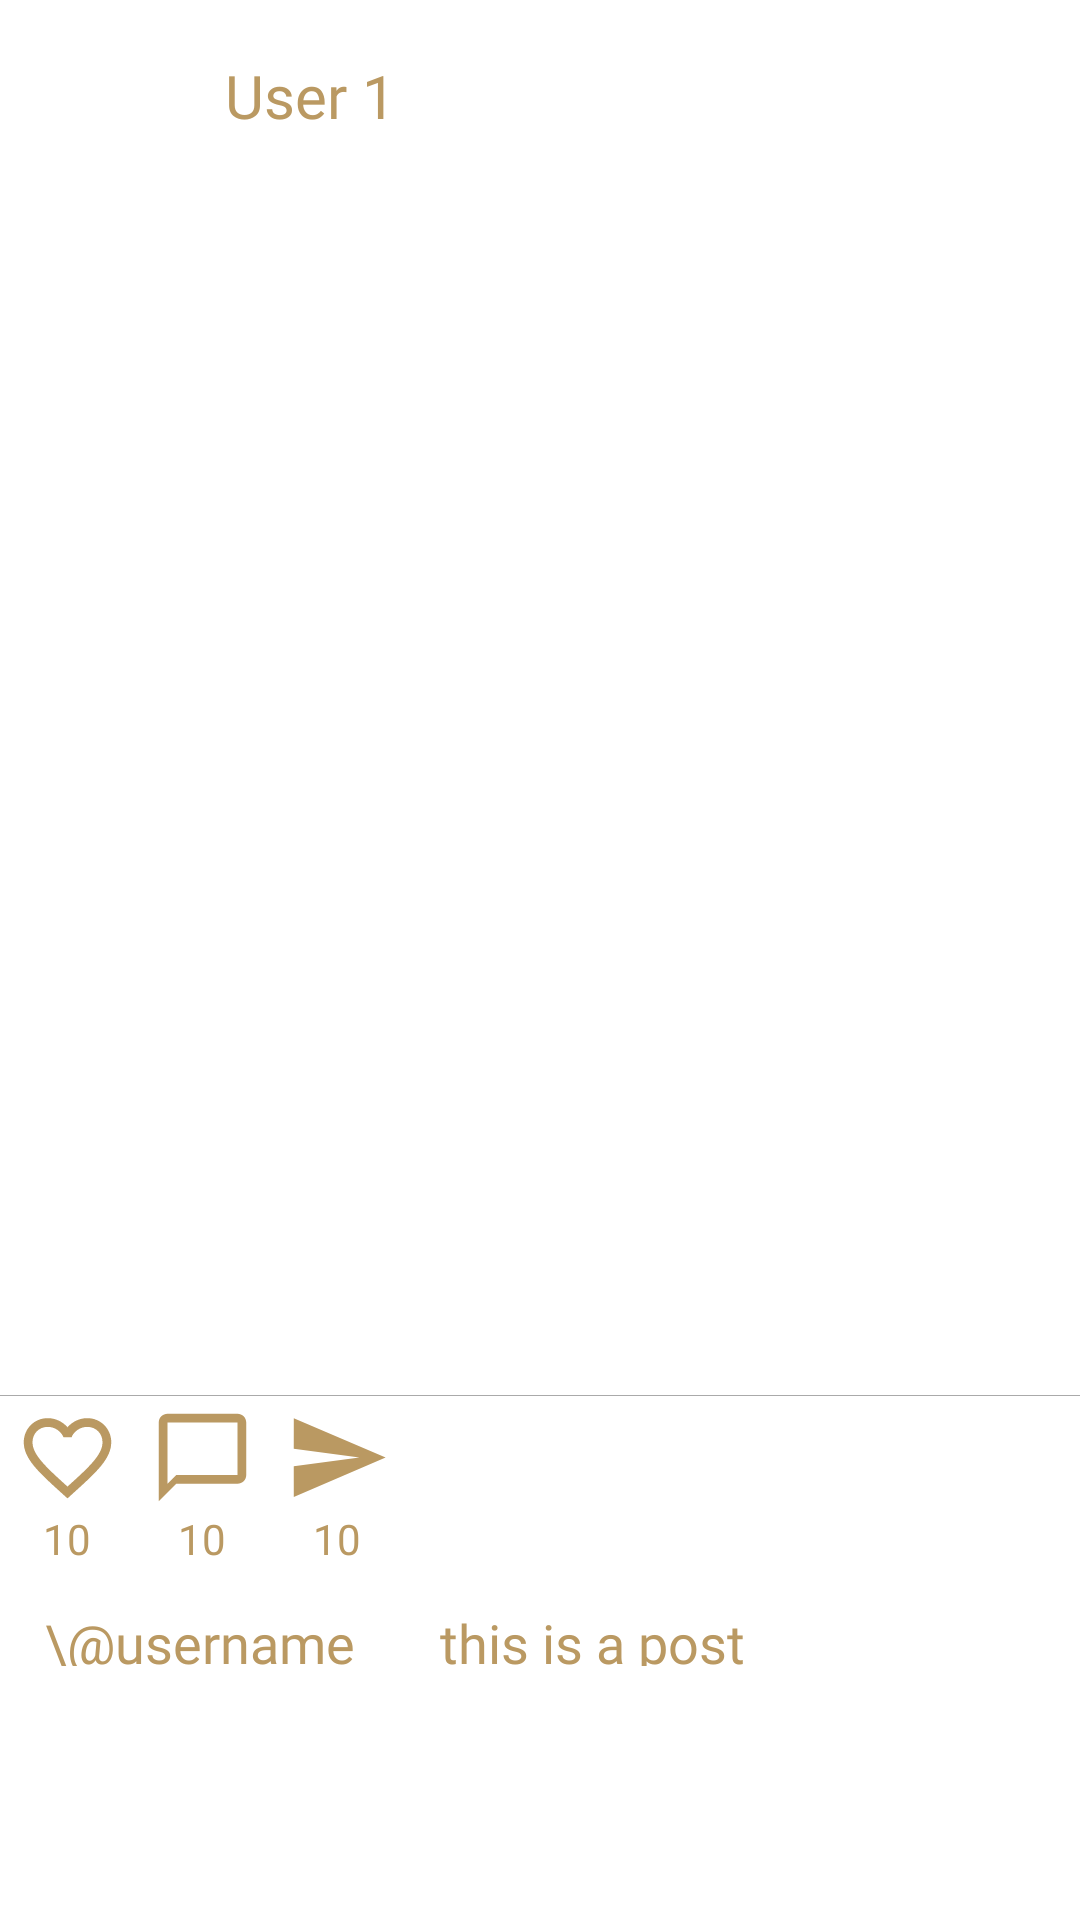

Where icons sit on this 1080px×1920px app screen, as (x1, y1, x2, y2):
post comment: (158, 1413, 247, 1501)
post like: (23, 1418, 112, 1498)
post share: (293, 1418, 385, 1497)
